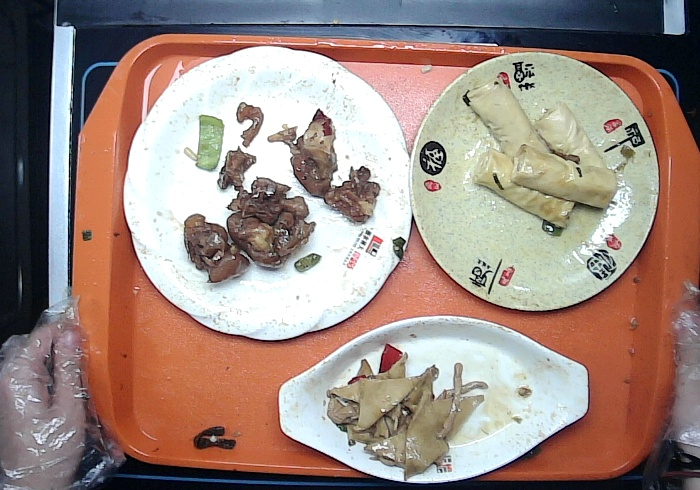NLDX-Bai_Zhe_Yuan_Pan: (126, 38, 416, 345)
NLDX-Fu_Zi_Yuan_Pan: (410, 49, 660, 318)
NLDX-Yu_Pan: (275, 314, 594, 490)
